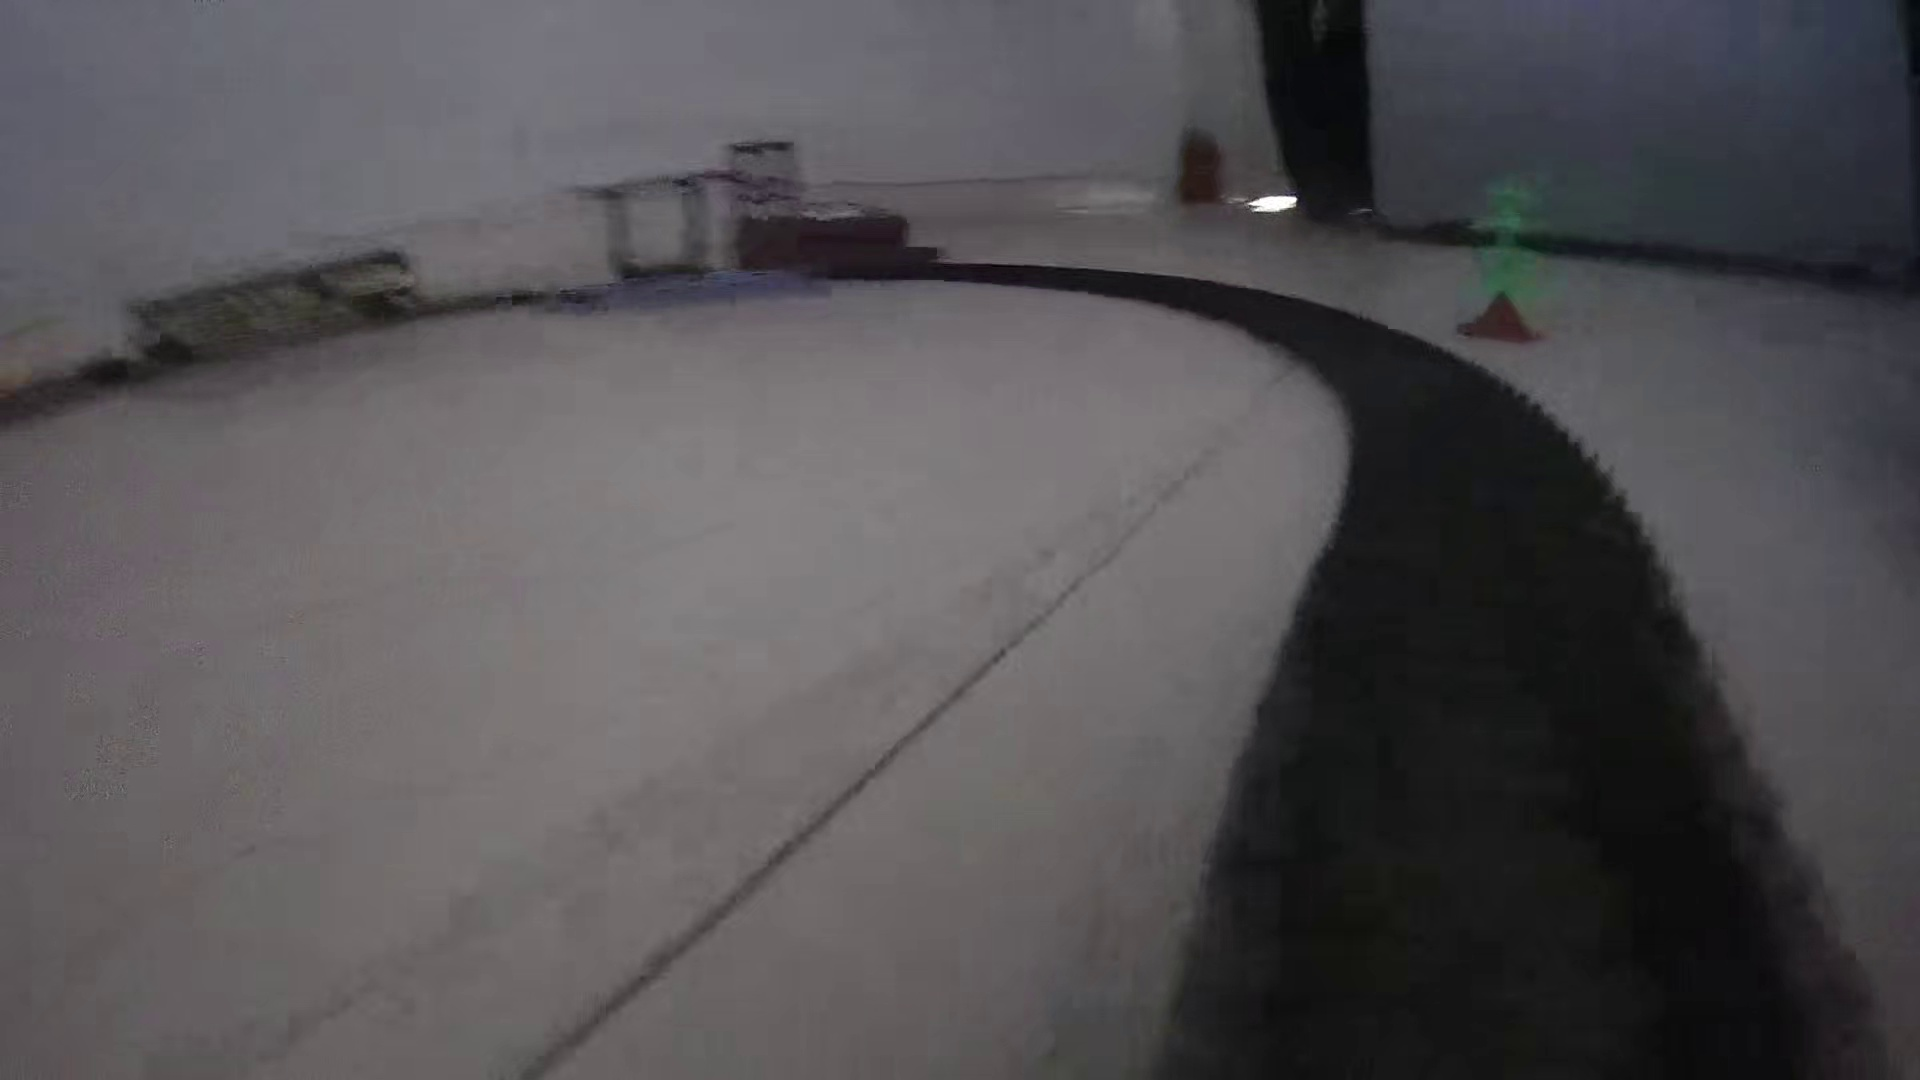tree: (1457, 158, 1553, 350)
